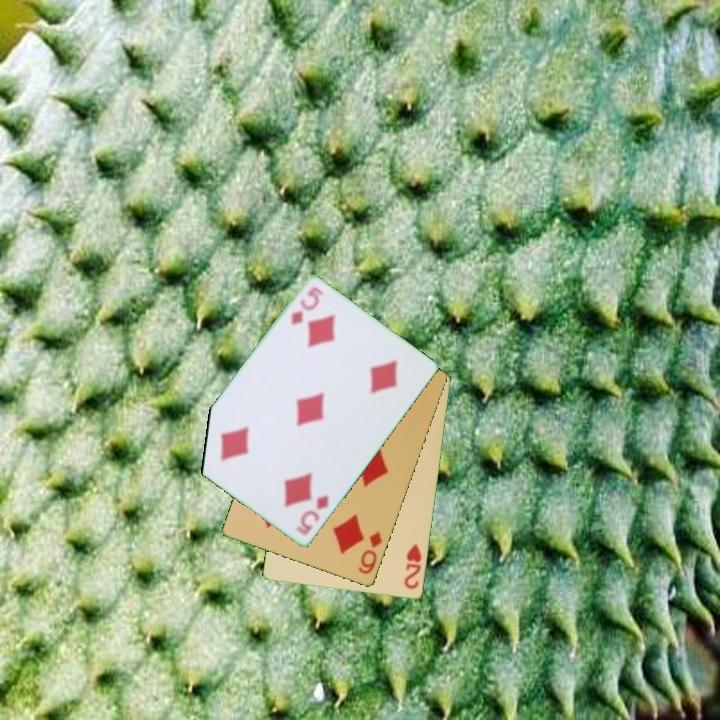2h: (401, 540, 425, 592)
5d: (292, 492, 332, 539), (288, 283, 326, 329)
6d: (355, 528, 386, 578)
